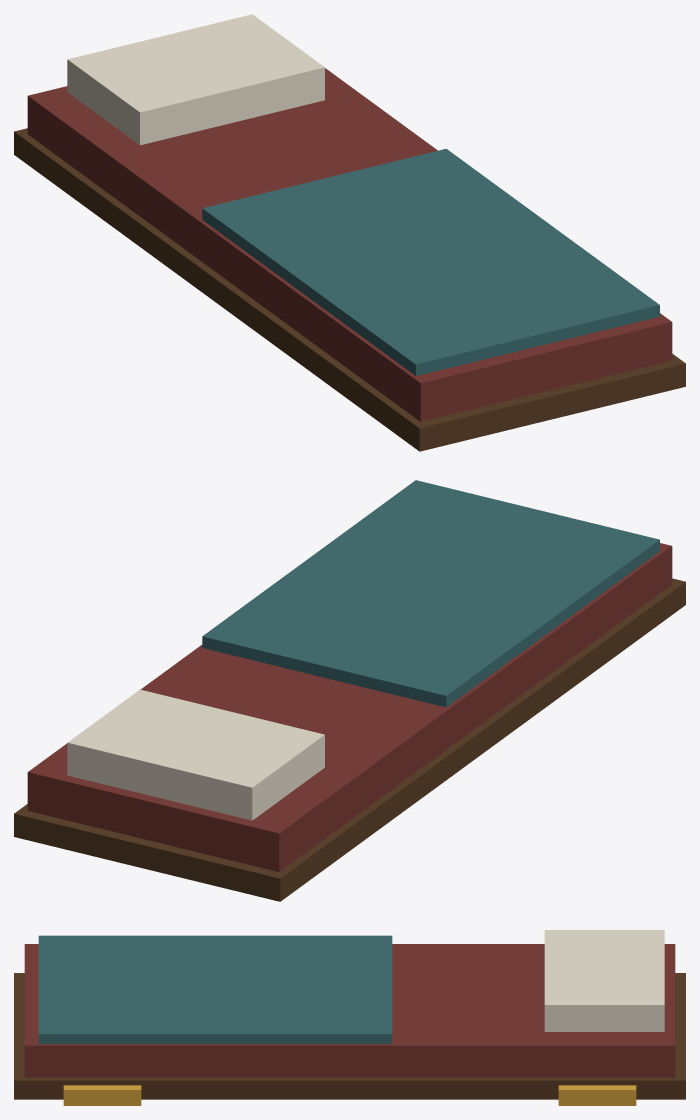
Rendered from bunk.glb.
The picture shows the model from 3 angles, top to bottom: view 1: azimuth 30°, elevation 25°; view 2: azimuth 150°, elevation 25°; view 3: azimuth 270°, elevation 25°; orthographic projection. The views are drawn at different scales.
Parts seen in each view (by area): view 1: #3f6f73_noshadow, #7a3a34_noshadow, #e8e0d0_noshadow, #5a3e26; view 2: #3f6f73_noshadow, #7a3a34_noshadow, #e8e0d0_noshadow, #5a3e26; view 3: #7a3a34_noshadow, #3f6f73_noshadow, #5a3e26, #e8e0d0_noshadow, #d8a840 metal 0.6 rough 0.4_noshadow.
Boxes of the visible parts, bbox=[...] form: #3f6f73_noshadow: bbox=[202, 148, 659, 375]; #7a3a34_noshadow: bbox=[27, 68, 672, 421]; #e8e0d0_noshadow: bbox=[67, 14, 324, 145]; #5a3e26: bbox=[14, 128, 685, 451]; #3f6f73_noshadow: bbox=[202, 480, 659, 707]; #7a3a34_noshadow: bbox=[27, 543, 672, 871]; #e8e0d0_noshadow: bbox=[67, 689, 324, 820]; #5a3e26: bbox=[14, 578, 685, 901]; #7a3a34_noshadow: bbox=[24, 944, 675, 1077]; #3f6f73_noshadow: bbox=[38, 935, 392, 1043]; #5a3e26: bbox=[14, 973, 685, 1099]; #e8e0d0_noshadow: bbox=[544, 930, 664, 1031]; #d8a840 metal 0.6 rough 0.4_noshadow: bbox=[63, 1085, 636, 1105].
Size of the model in its own units: 0.75 by 0.275 by 1.9.
